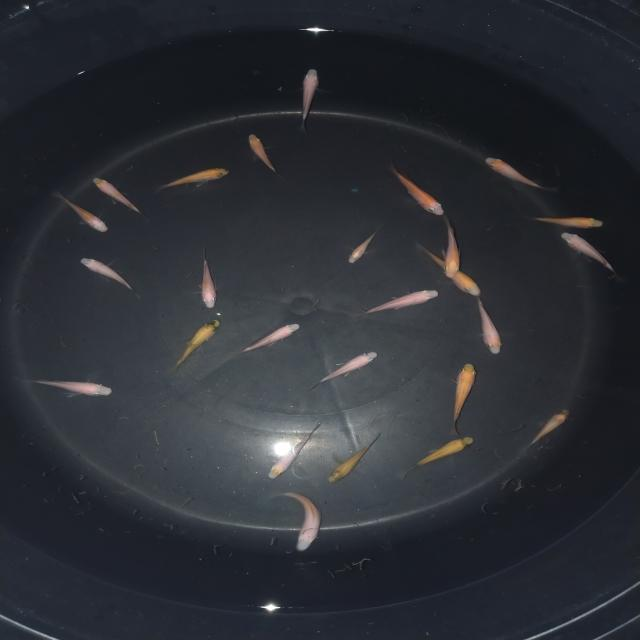nila: (264, 488, 327, 556), (552, 230, 624, 286), (301, 350, 382, 393), (264, 421, 322, 481), (478, 155, 565, 195), (416, 248, 484, 298), (400, 434, 479, 476), (168, 316, 224, 374), (391, 162, 448, 218), (325, 432, 382, 487), (78, 255, 141, 304), (354, 286, 442, 319), (447, 359, 482, 439), (518, 405, 573, 455), (85, 174, 146, 219), (230, 321, 304, 357), (154, 164, 232, 196), (54, 191, 110, 235), (20, 374, 114, 399), (472, 294, 507, 358), (192, 245, 222, 315), (244, 131, 284, 181), (298, 65, 322, 134), (440, 216, 464, 279), (519, 212, 607, 229), (347, 228, 381, 264)
